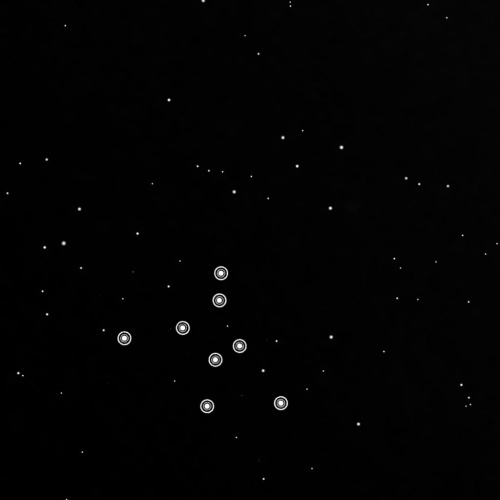hercules: (110, 259, 293, 420)
